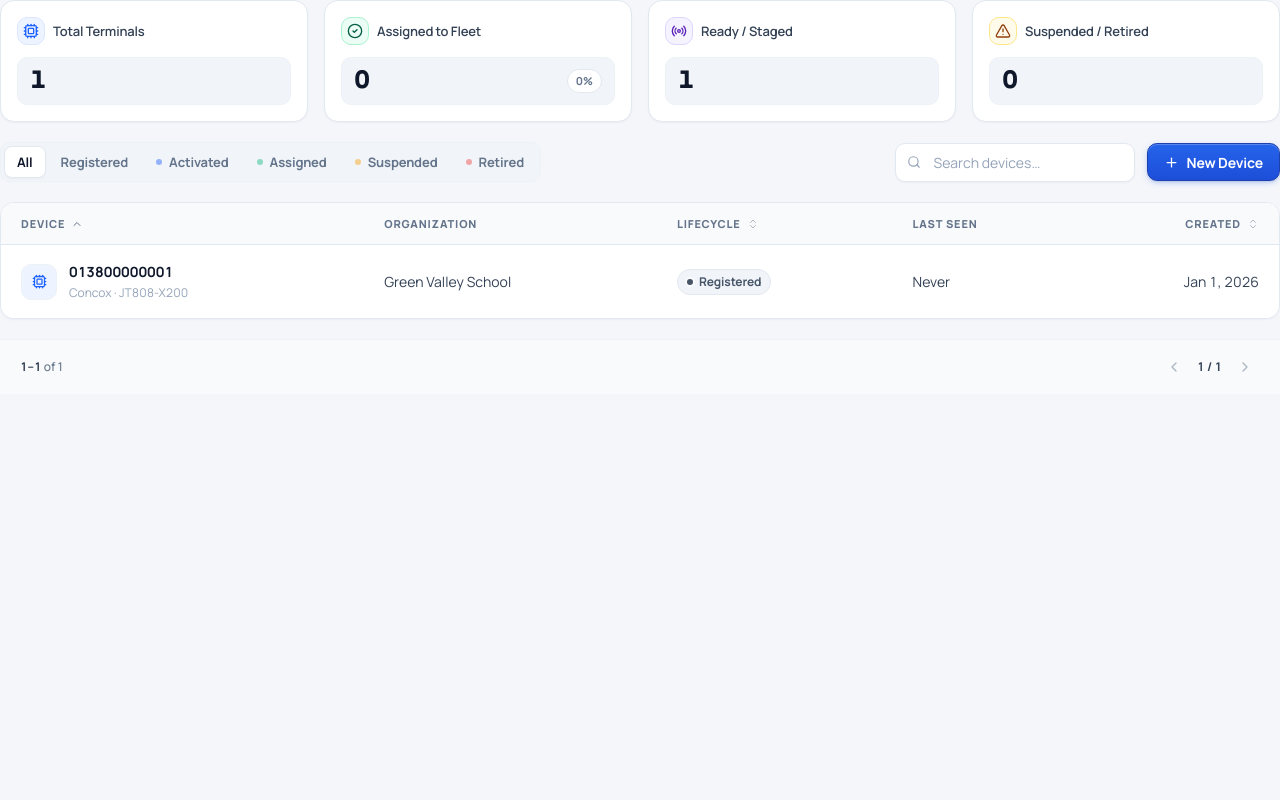
DevicesPage › opens the detail drawer with the device's details on row click
Click the text "013800000001": {"x": 129, "y": 272} top-left (69, 261), bottom-right (188, 283)
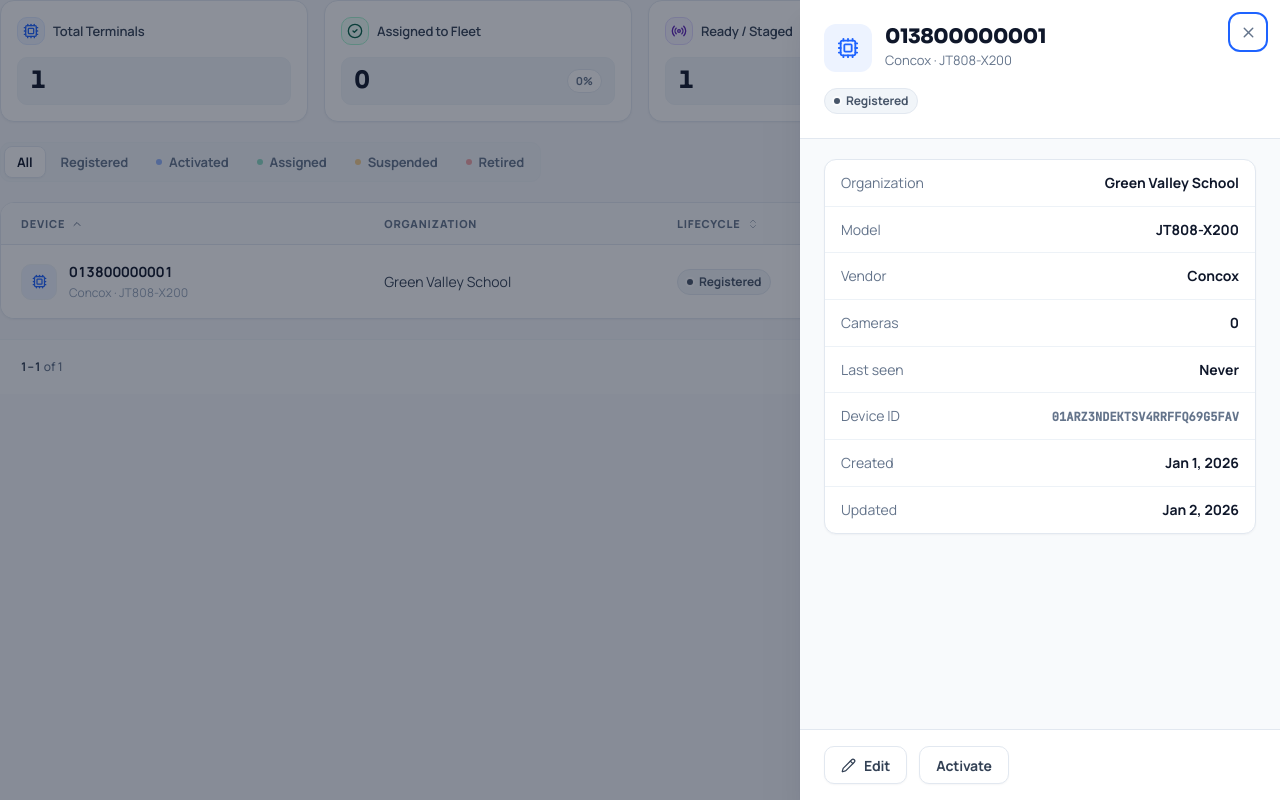
Expected: the text "Model" is shown, top-left (841, 219), bottom-right (881, 240)
Expected: the text "JT808-X200" is shown, top-left (1156, 219), bottom-right (1239, 240)
Expected: the text "01ARZ3NDEKTSV4RRFFQ69G5FAV" is shown, top-left (1052, 409), bottom-right (1239, 425)
